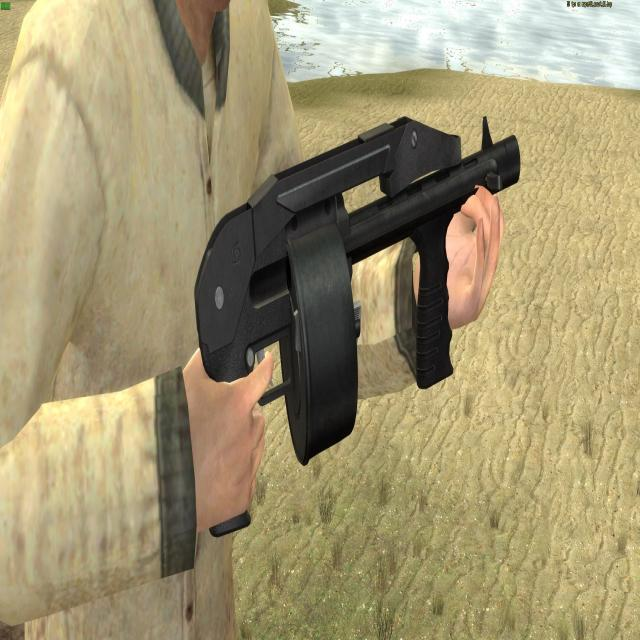shotgun: (167, 101, 537, 514)
